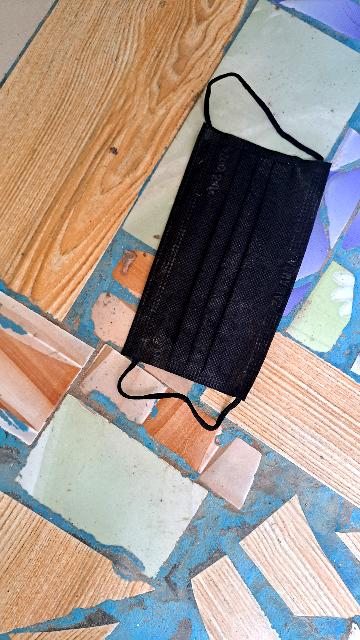mask: (122, 119, 335, 414)
